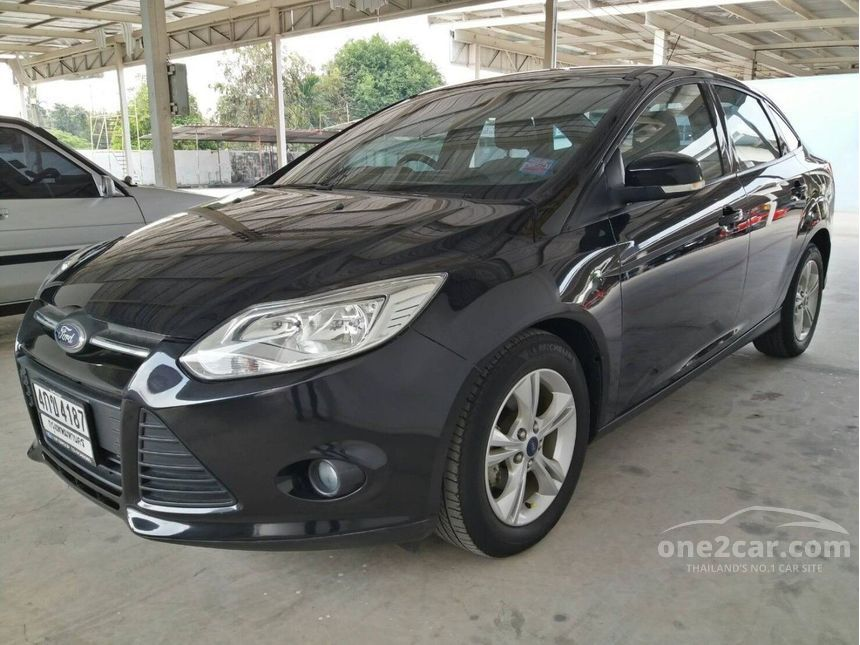sedan: (17, 65, 835, 545)
